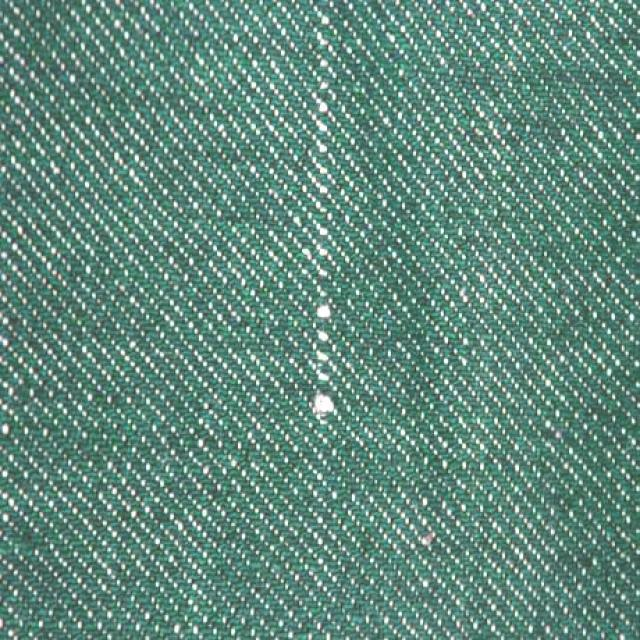stains: (242, 6, 461, 640)
